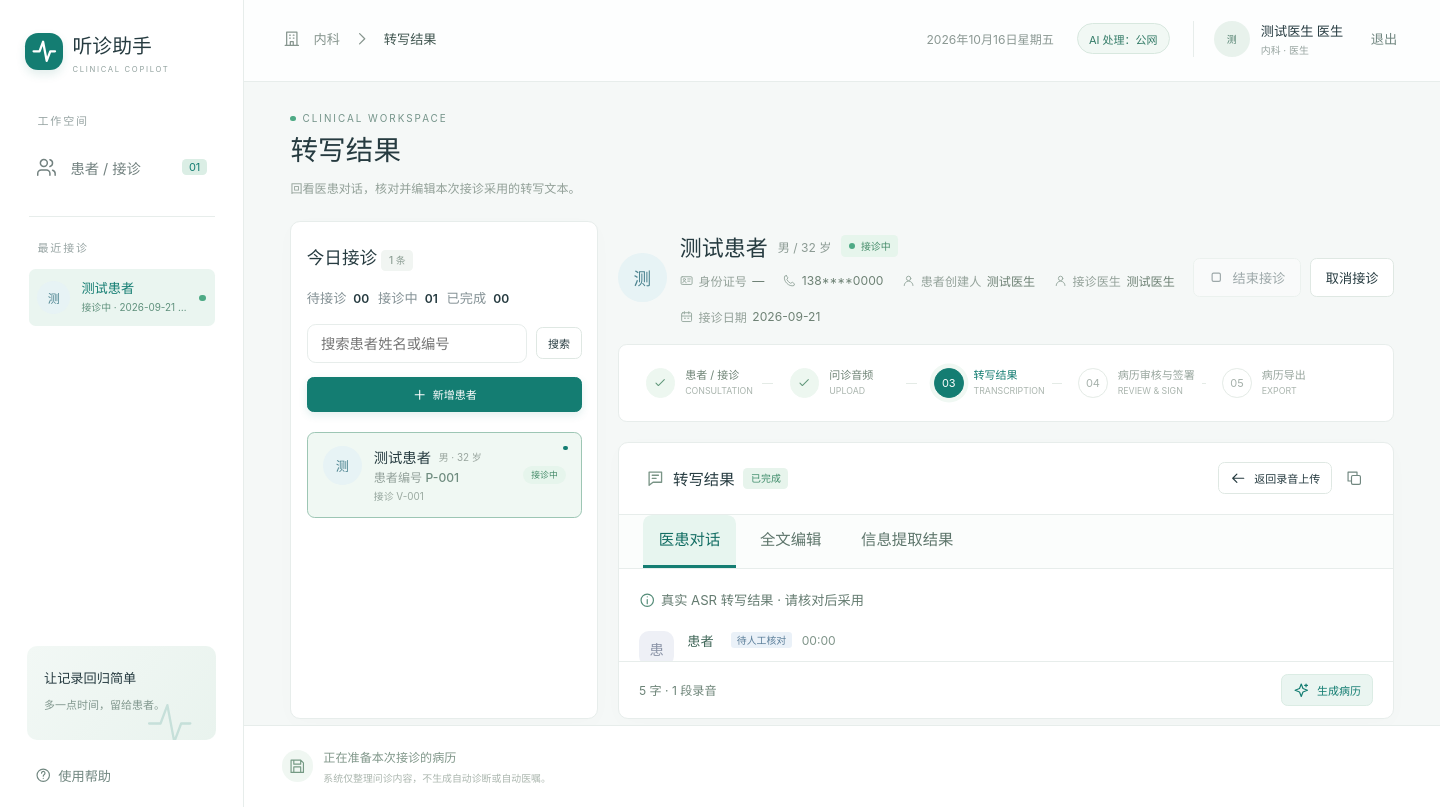
it: microphone input selection › opens the selected input device when recording starts
Click the button with aria-label "返回录音上传" at coordinates (1275, 478), box [1218,462,1332,494]
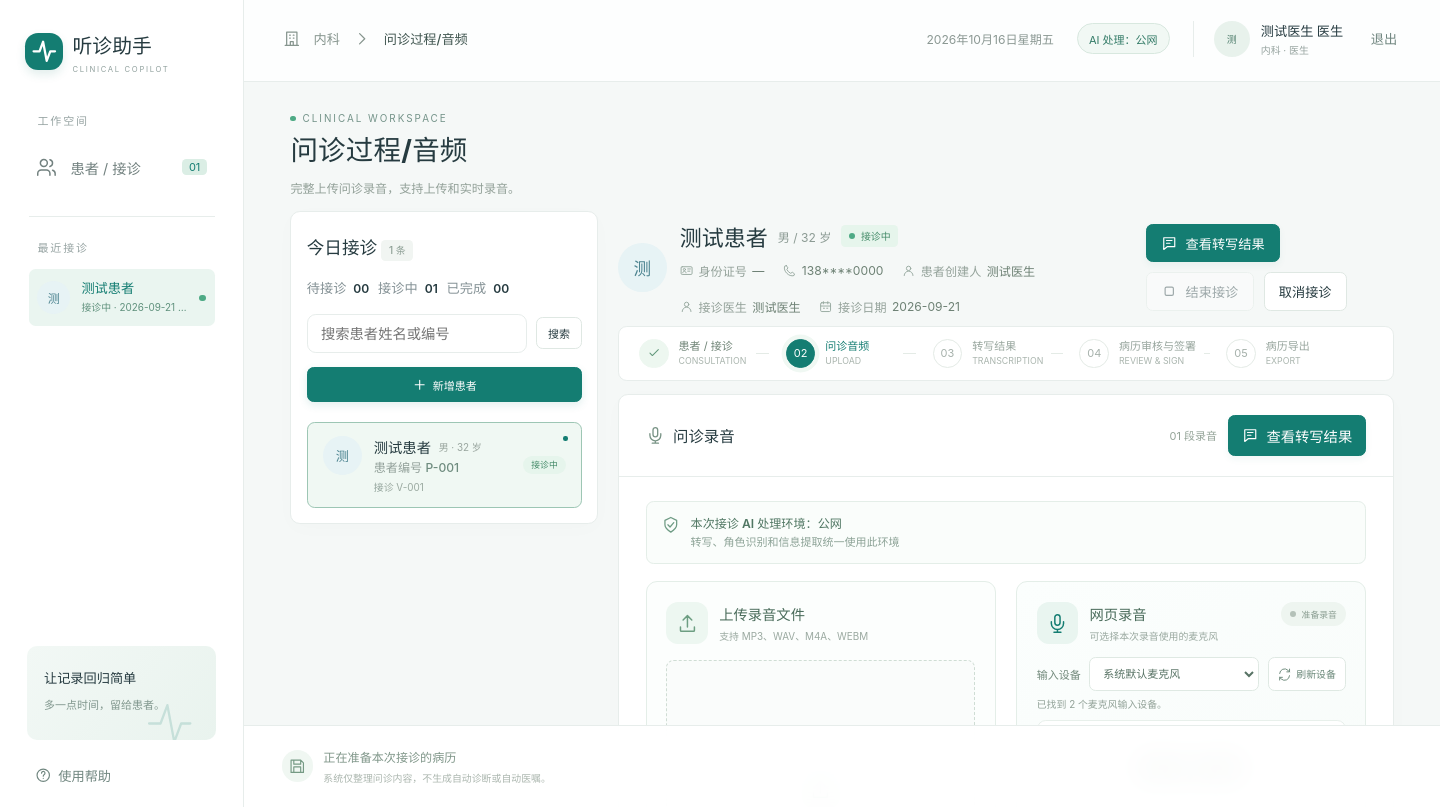
Select "USB Audio Device" in the dropdown named "网页录音输入设备" at coordinates (1174, 674), box [1090,657,1259,691]
(page scrolled)
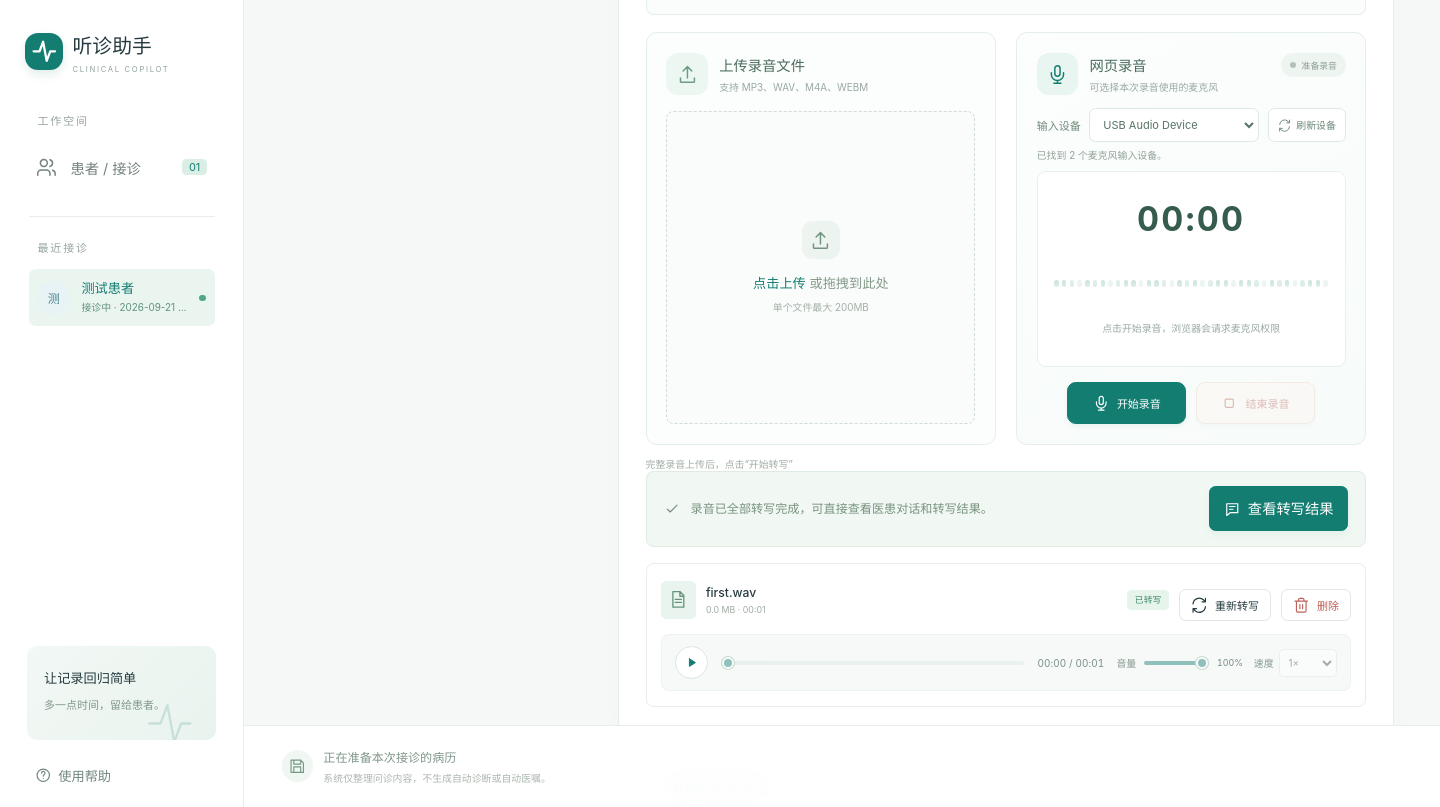
Click the button with class "recorder-main-btn" at coordinates (1127, 403), box [1067,382,1186,424]
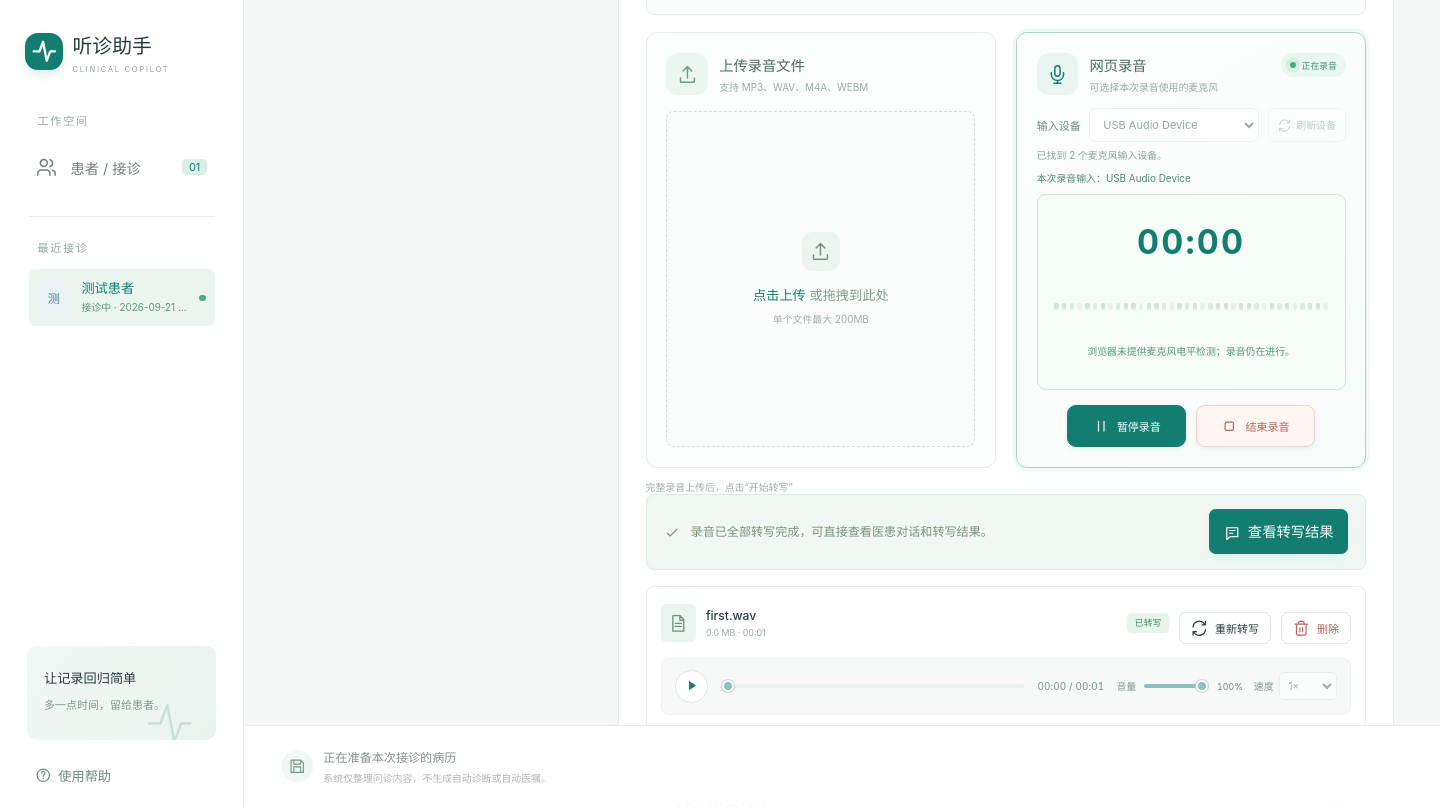
expect the text "本次录音输入：USB Audio Device" is shown: met, box [1037,172,1191,184]
expect the dropdown named "网页录音输入设备" is disabled: met, box [1090,108,1259,142]
